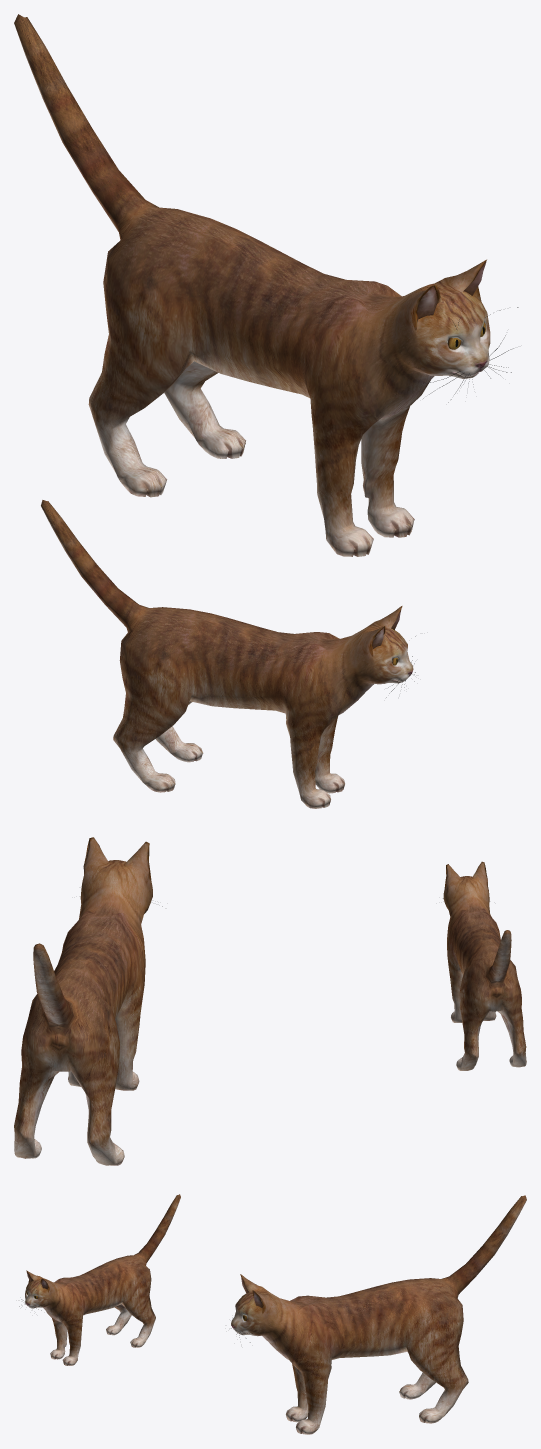
Rendered from cat_scene.dae.
3 views of the same model, one above another, from view 1: azimuth 30°, elevation 25°; view 2: azimuth 150°, elevation 25°; view 3: azimuth 270°, elevation 25° (orthographic). The views are drawn at different scales.
Visible parts, largest first — view 1: cat2, cat1; view 2: cat2, cat1; view 3: cat2, cat1.
Part boxes in pixels (x1,y1,x2,y2): cat2: (14, 14, 518, 556); cat1: (41, 500, 415, 808); cat2: (14, 837, 162, 1165); cat1: (443, 861, 526, 1070); cat2: (231, 1195, 526, 1434); cat1: (19, 1194, 180, 1365).
Size of what is drawn, in the model's own units: 2.13 by 3.39 by 1.49.
Materials: 2 (2 with a texture image).
